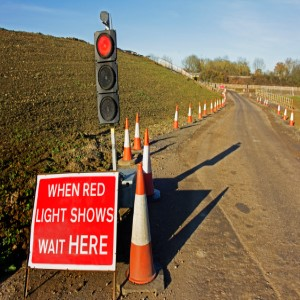traffic cone: (116, 161, 165, 292), (130, 128, 161, 201), (118, 117, 136, 166), (129, 112, 144, 153), (172, 105, 180, 129), (186, 101, 193, 124)
